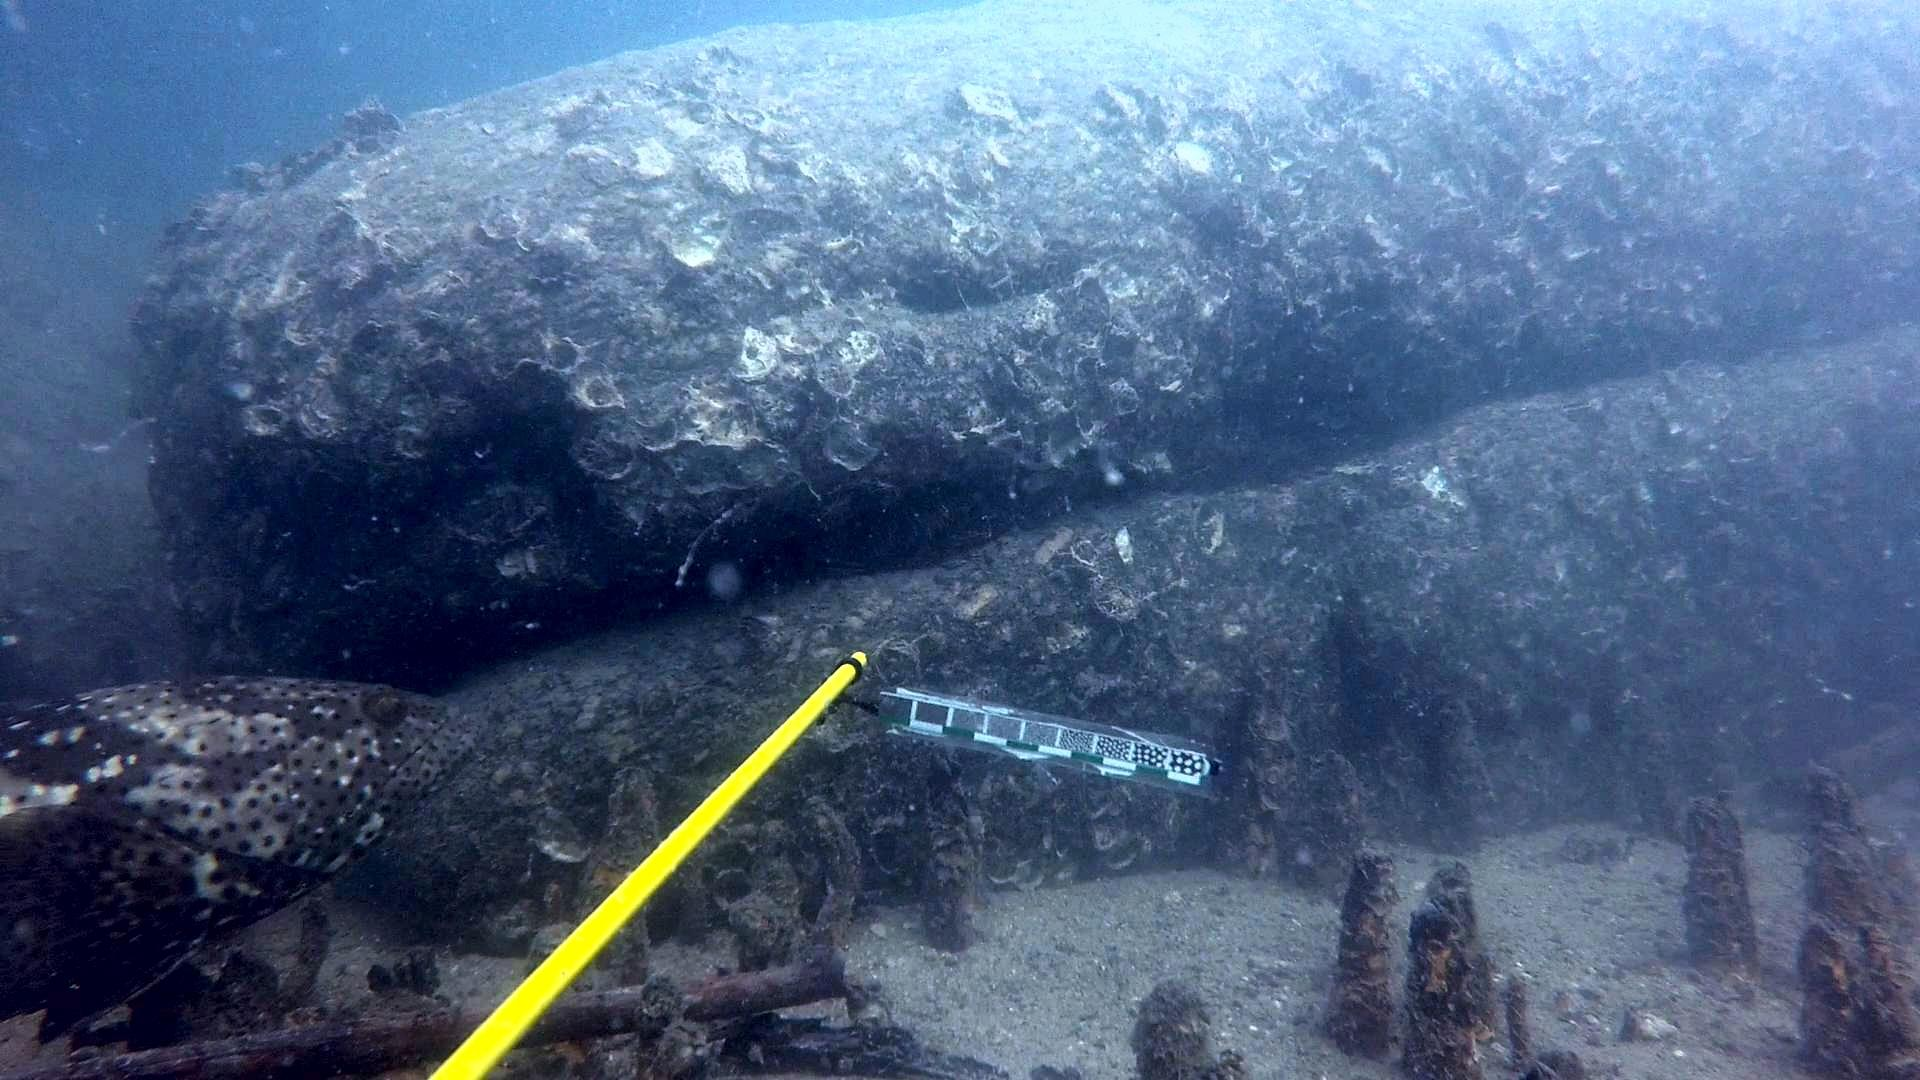epinephelus: (0, 669, 493, 1065)
